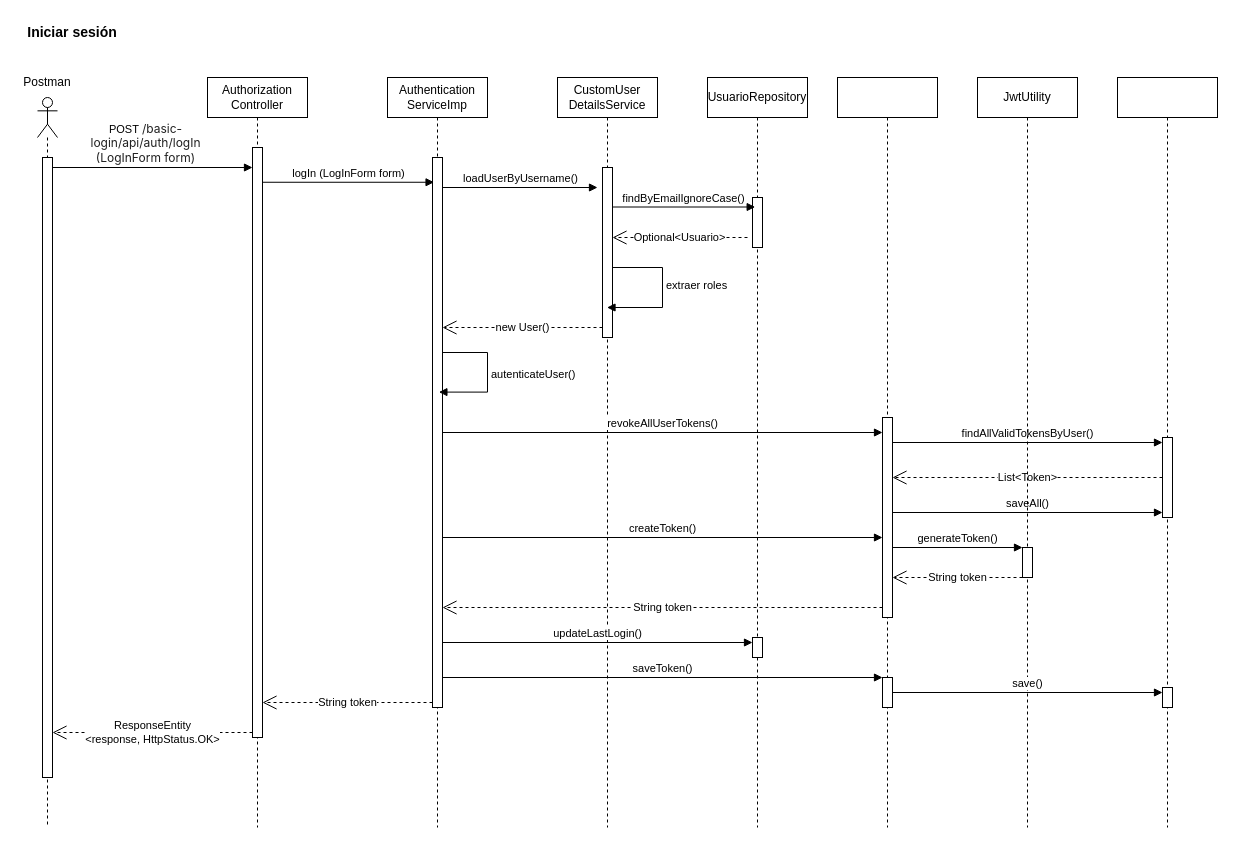
This 1235x845 diagram has some shape labels left out. Here are the shapes that lost their labels. From the top down, the box of each, then its label:
(836, 76, 938, 828): TokenService
(1116, 76, 1218, 828): TokenRepository
